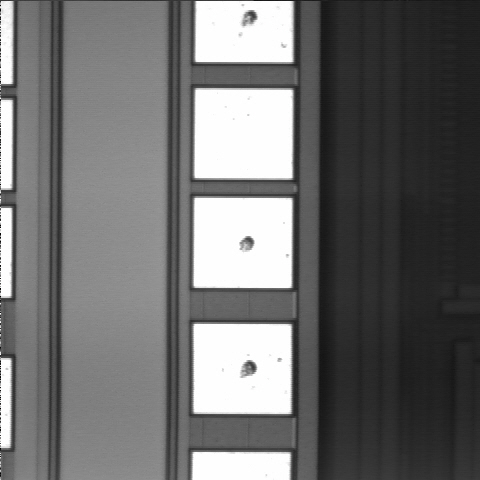pad: (194, 88, 293, 179), (194, 198, 292, 288), (194, 324, 291, 414)
